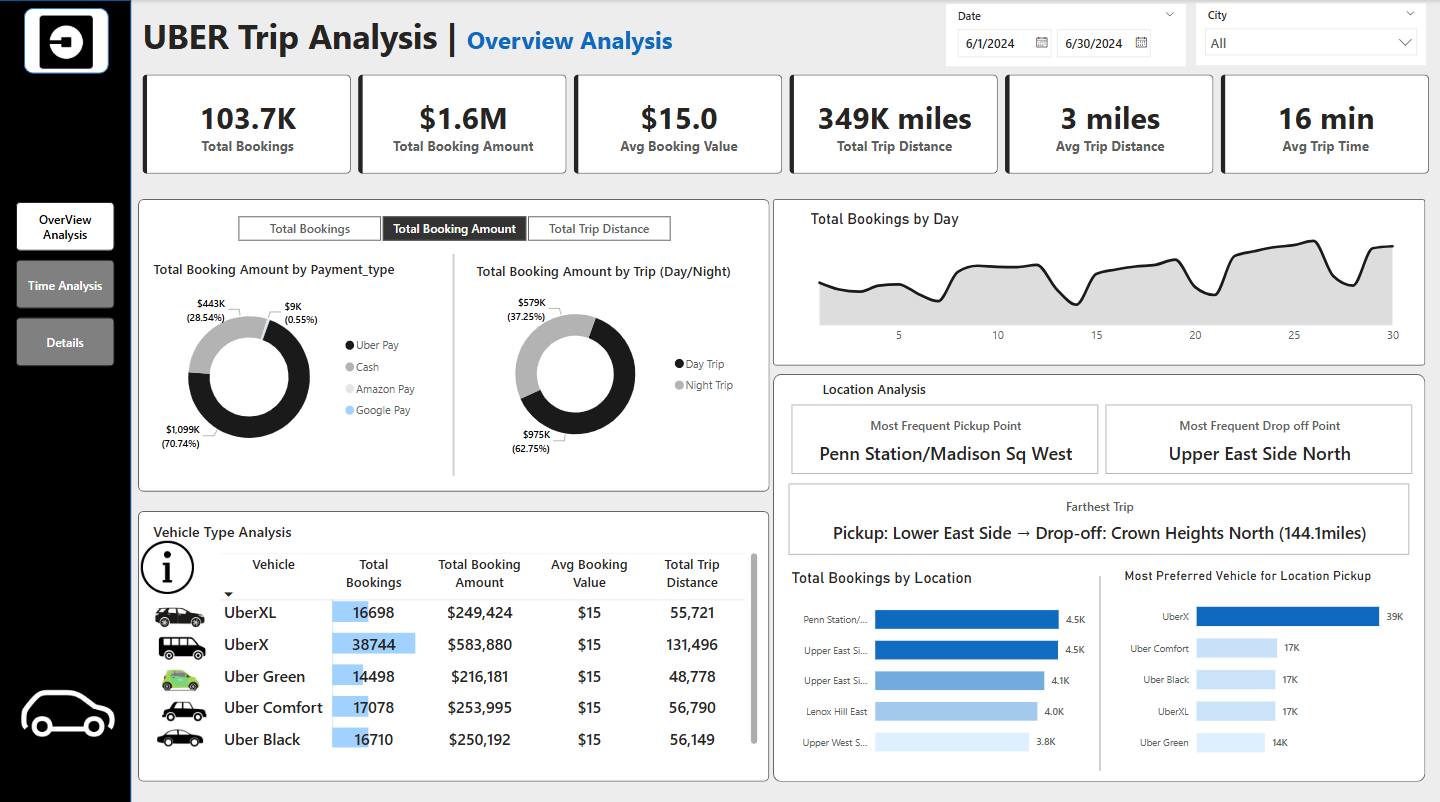

What the dashboard file says about the page in this screenshot:
{"tool":"powerbi","page":{"name":"OverView Analysis","canvas":[1600,900],"ordinal":0},"visuals":[{"type":"shape","box":[154.4,220.1,700.3,324.6],"z":0},{"type":"slicer","fields":{"Values":["Dynamic Measure.Dynamic Measure"]},"box":[239.5,232.2,528.9,36.5],"z":1000},{"type":"shape","box":[0,0,146.5,900.4],"z":2000,"group":"g1"},{"type":"textbox","box":[154.4,8.5,738,60.8],"z":2000},{"type":"cardVisual","fields":{"Data":["Trip Details.Total Bookings","Trip Details.Total Booking Amount","Trip Details.Avg Booking Amount","Trip Details.Total Trip Distance","Trip Details.Avg Trip Distance","Trip Details.Avg Trip Time"]},"box":[154.4,77.8,1437.1,120.4],"z":3000},{"type":"donutChart","fields":{"Y":["Trip Details.Total Booking Amount"],"Category":["Trip Details.Payment_type"]},"box":[166.6,288.1,308.8,239.5],"z":4000},{"type":"donutChart","fields":{"Y":["Trip Details.Total Booking Amount"],"Category":["Trip Details.Trip Type (Day/Night)"]},"box":[524,290.6,304,228.6],"z":5000},{"type":"shape","box":[154.4,566.6,700.3,300.3],"z":6000},{"type":"pivotTable","fields":{"Rows":["Trip Details.Vehicle"],"Values":["Trip Details.Total Bookings","Trip Details.Total Booking Amount","Trip Details.Avg Booking Value","Trip Details.Total Trip Distance Measure"]},"box":[239.5,607.9,606.7,226.1],"z":7000},{"type":"image","box":[166.6,803.6,69.3,30.4],"z":8000},{"type":"image","box":[154.4,736.8,93.6,35.3],"z":9000},{"type":"image","box":[161.7,772,86.3,31.6],"z":10000},{"type":"image","box":[166.6,700.3,72.9,36.5],"z":11000},{"type":"image","box":[161.7,668.7,76.6,31.6],"z":12000},{"type":"card","fields":{"Values":["Trip Details.Title for Grid"]},"box":[116.7,566.6,262.6,48.6],"z":13000},{"type":"shape","box":[858.4,220.1,723.4,184.8],"z":14000},{"type":"areaChart","fields":{"Category":["Calendar Table.Date.Variation.Date Hierarchy.Day"],"Y":["Trip Details.Total Bookings"]},"box":[894.8,232.2,665,156.8],"z":15000},{"type":"shape","box":[858.4,414.6,723.4,452.3],"z":16000},{"type":"cardVisual","fields":{"Data":["Trip Details.Most Frequent Pickup Point","Trip Details.Most Frequent Drop off Point"]},"box":[872.9,443.8,699.1,87.5],"z":17000},{"type":"cardVisual","fields":{"Data":["Trip Details.Farthest Trip"]},"box":[870.1,530.4,698.3,89.7],"z":18000},{"type":"barChart","fields":{"Category":["Location Table.Location"],"Y":["Trip Details.Total Bookings"]},"box":[872.9,631,340.4,222.5],"z":19000},{"type":"barChart","title":"Most Preferred Vehicle for Location Pickup","fields":{"Category":["Trip Details.Vehicle"],"Y":["CountNonNull(Trip Details.PULocationID)"]},"box":[1242.6,629.8,328.3,224.9],"z":20000},{"type":"shape","box":[403.6,282.1,200.6,245.6],"z":21000},{"type":"shape","box":[1124.6,638.3,190.9,216.4],"z":22000},{"type":"card","fields":{"Values":["Trip Details.Title for Location"]},"box":[872.9,417,193.3,32.8],"z":23000},{"type":"slicer","fields":{"Values":["Calendar Table.Date"]},"box":[1049.9,4.5,265.6,69.2],"z":24000},{"type":"slicer","fields":{"Values":["Location Table.City"]},"box":[1326.4,3.6,255.3,69.3],"z":25000},{"type":"group","id":"g1","title":"Group 2","box":[0,0,149.1,900.4],"z":27000},{"type":"shape","box":[27.8,8.9,93.9,72.6],"z":27000,"group":"g2"},{"type":"pageNavigator","box":[19,224.3,109.3,184.1],"z":27500},{"type":"image","box":[149.5,591.4,73.6,73.6],"z":27502},{"type":"image","box":[10,725.2,128.3,129.4],"z":27503},{"type":"image","box":[0,12.1,149.3,69.3],"z":28000,"group":"g2"},{"type":"group","id":"g2","title":"Group 1","box":[0,8.9,149.1,72.6],"z":28001,"group":"g1"}]}

Visuals, with their boxes in screenshot pixels (x1, y1, x2, y2), scaled from the page's 1600x900 canvas onto the 1440x802 screenshot:
shape: (left=139, top=196, right=769, bottom=485)
slicer - Dynamic Measure.Dynamic Measure: (left=216, top=207, right=692, bottom=239)
shape: (left=0, top=0, right=132, bottom=801)
textbox: (left=139, top=8, right=803, bottom=62)
cardVisual - Trip Details.Total Bookings x Trip Details.Total Booking Amount: (left=139, top=69, right=1432, bottom=177)
donutChart - Trip Details.Total Booking Amount x Trip Details.Payment_type: (left=150, top=257, right=428, bottom=470)
donutChart - Trip Details.Total Booking Amount x Trip Details.Trip Type (Day/Night): (left=472, top=259, right=745, bottom=463)
shape: (left=139, top=505, right=769, bottom=773)
pivotTable - Trip Details.Vehicle x Trip Details.Total Bookings: (left=216, top=542, right=762, bottom=743)
image: (left=150, top=716, right=212, bottom=743)
image: (left=139, top=657, right=223, bottom=688)
image: (left=146, top=688, right=223, bottom=716)
image: (left=150, top=624, right=216, bottom=657)
image: (left=146, top=596, right=214, bottom=624)
card - Trip Details.Title for Grid: (left=105, top=505, right=341, bottom=548)
shape: (left=773, top=196, right=1424, bottom=361)
areaChart - Calendar Table.Date.Variation.Date Hierarchy.Day x Trip Details.Total Bookings: (left=805, top=207, right=1404, bottom=347)
shape: (left=773, top=369, right=1424, bottom=773)
cardVisual - Trip Details.Most Frequent Pickup Point x Trip Details.Most Frequent Drop off Point: (left=786, top=395, right=1415, bottom=473)
cardVisual - Trip Details.Farthest Trip: (left=783, top=473, right=1412, bottom=553)
barChart - Location Table.Location x Trip Details.Total Bookings: (left=786, top=562, right=1092, bottom=761)
"Most Preferred Vehicle for Location Pickup" barChart: (left=1118, top=561, right=1414, bottom=762)
shape: (left=363, top=251, right=544, bottom=470)
shape: (left=1012, top=569, right=1184, bottom=762)
card - Trip Details.Title for Location: (left=786, top=372, right=960, bottom=401)
slicer - Calendar Table.Date: (left=945, top=4, right=1184, bottom=66)
slicer - Location Table.City: (left=1194, top=3, right=1424, bottom=65)
"Group 2" group: (left=0, top=0, right=134, bottom=801)
shape: (left=25, top=8, right=110, bottom=73)
pageNavigator: (left=17, top=200, right=115, bottom=364)
image: (left=135, top=527, right=201, bottom=593)
image: (left=9, top=646, right=124, bottom=762)
image: (left=0, top=11, right=134, bottom=73)
"Group 1" group: (left=0, top=8, right=134, bottom=73)
